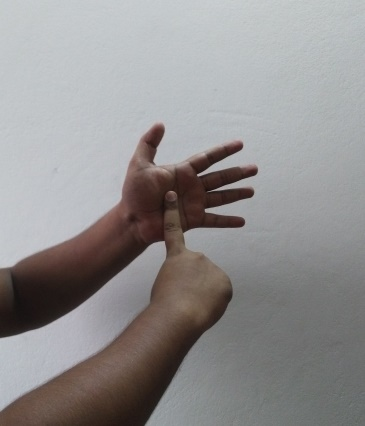oo: (119, 120, 261, 321)
